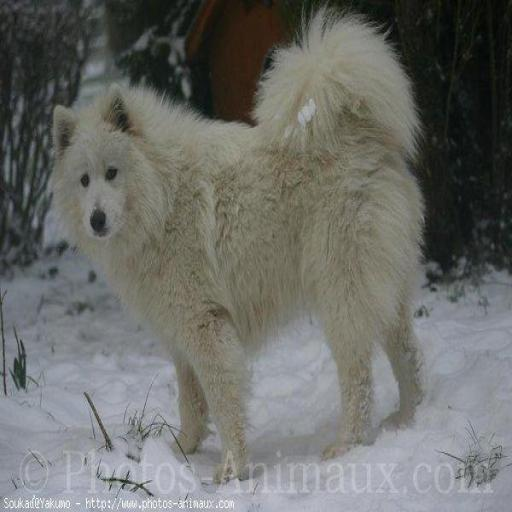dog_face: (50, 93, 134, 246)
